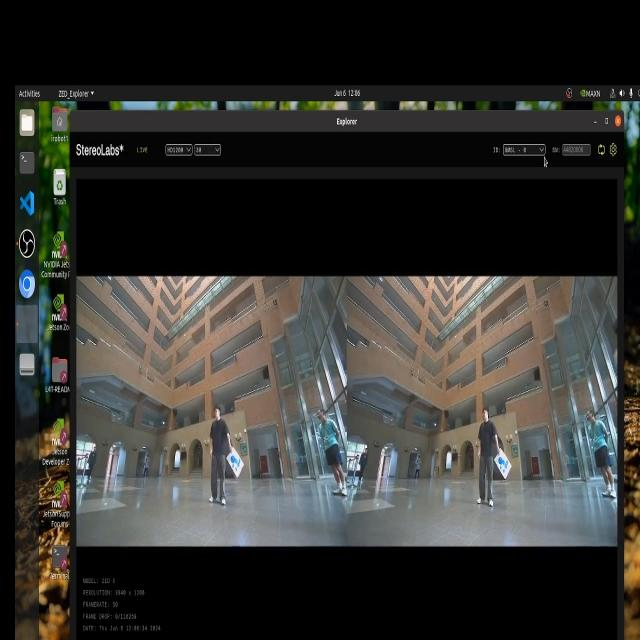blue: (490, 449, 512, 484), (228, 449, 243, 475)
